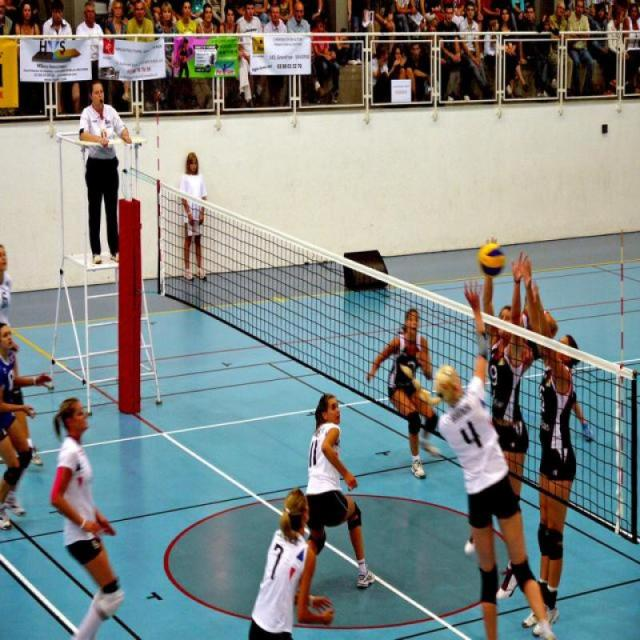volleyball: (476, 243, 506, 279)
